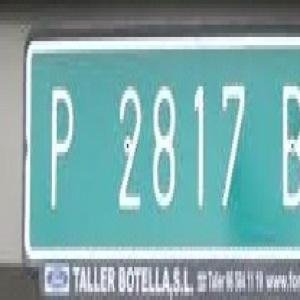Plate: (23, 33, 300, 259)
